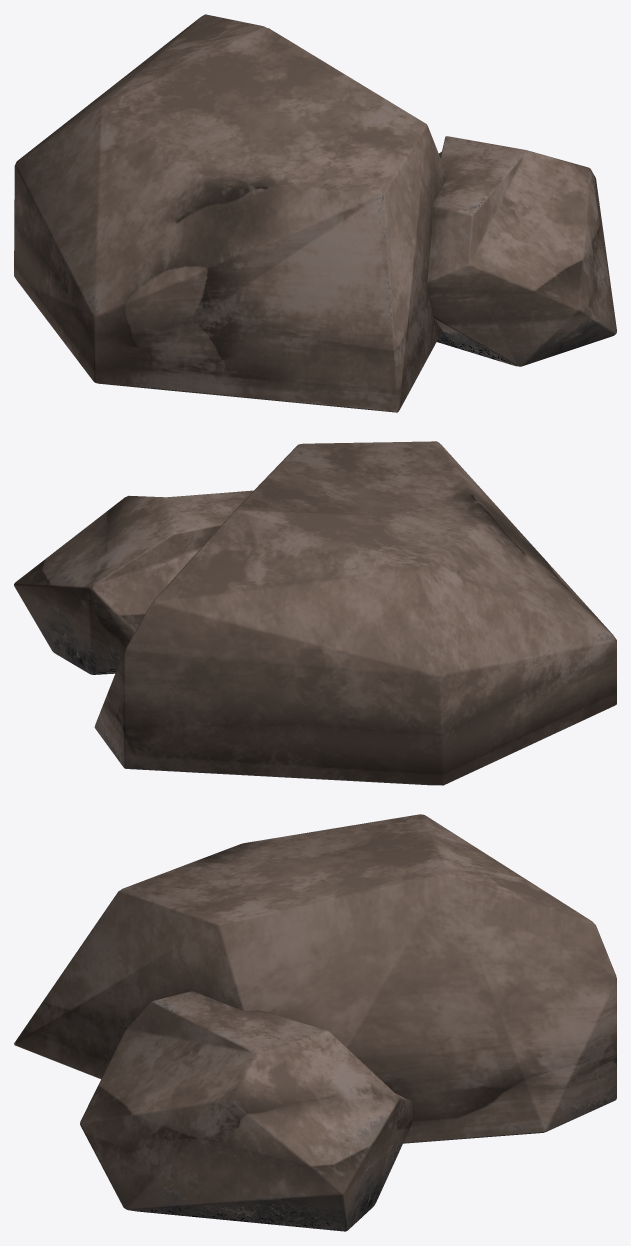
File: ASSET_1.glb
3 views of the same model, one above another, from view 1: azimuth 30°, elevation 25°; view 2: azimuth 150°, elevation 25°; view 3: azimuth 270°, elevation 25° (orthographic). The views are drawn at different scales.
Parts seen in each view (by area): view 1: ROCK1; view 2: ROCK1; view 3: ROCK1.
Part boxes in pixels (x1,y1,x2,y2): ROCK1: (14, 14, 616, 412); ROCK1: (14, 441, 616, 785); ROCK1: (14, 814, 616, 1231).
Size of the model in its own units: 20.42 by 8.36 by 18.89.
1 material, 1 textured.
